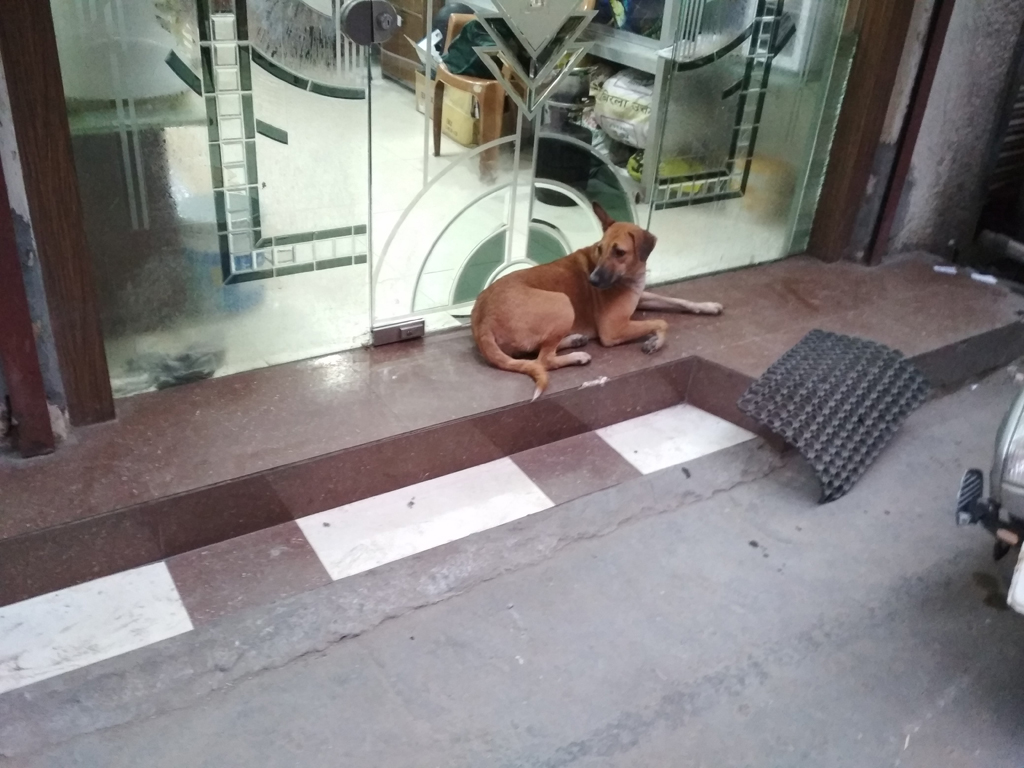dog: (470, 201, 723, 404)
